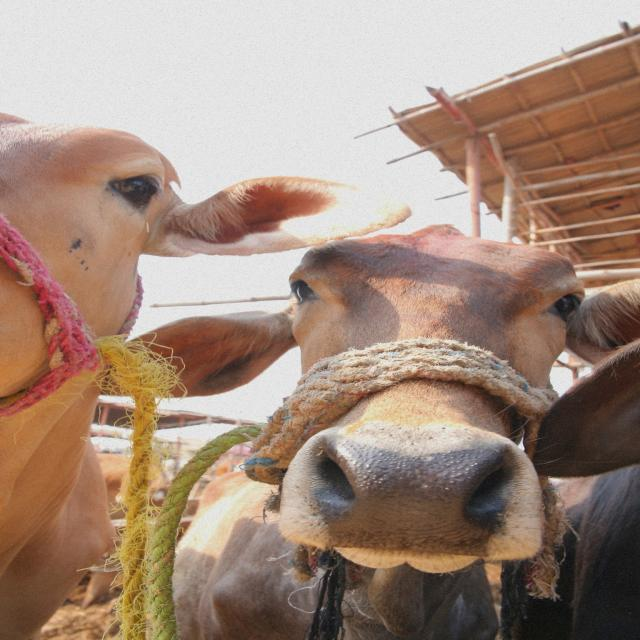muzzles: (299, 423, 533, 562)
